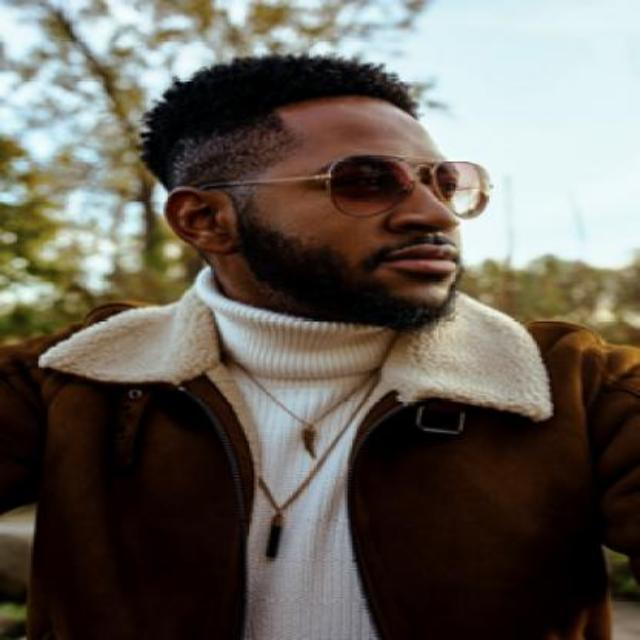sunglasses: (200, 153, 492, 219)
